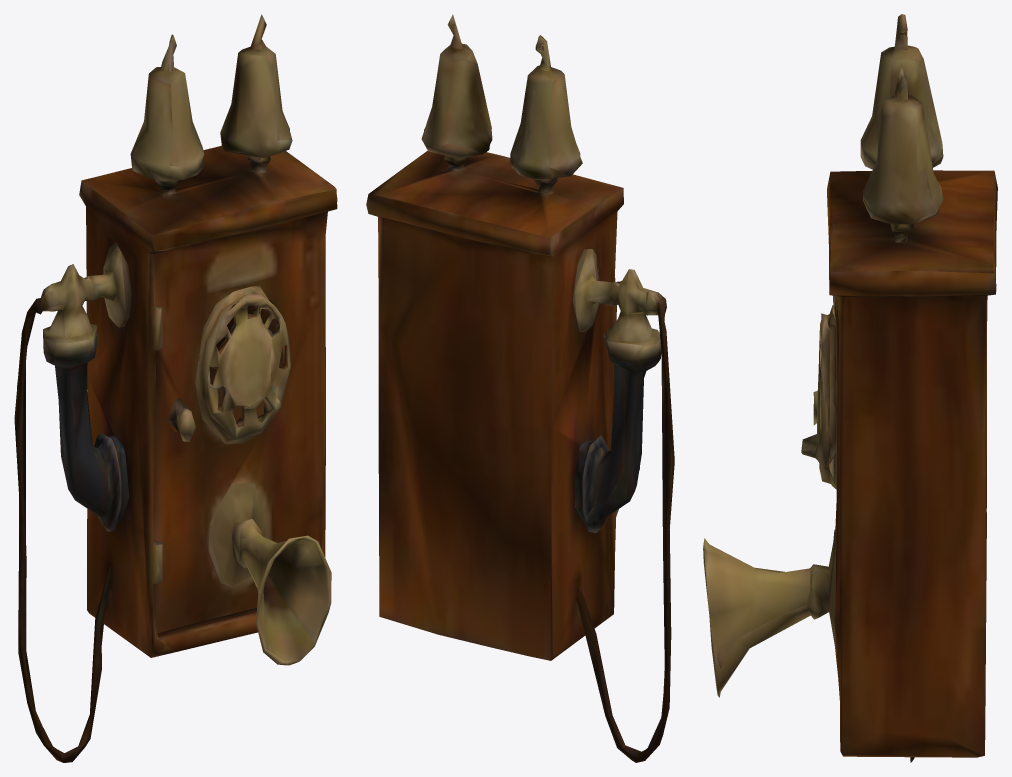
Rendered from telefono.movil.glb.
The picture shows the model from 3 angles, left to right: view 1: azimuth 30°, elevation 25°; view 2: azimuth 150°, elevation 25°; view 3: azimuth 270°, elevation 25°; orthographic projection. The views are drawn at different scales.
Visible parts, largest first — view 1: geometry_0; view 2: geometry_0; view 3: geometry_0.
Boxes of the visible parts, x1,y1,x2,y2 form: geometry_0: (14,14,337,762); geometry_0: (366,14,674,762); geometry_0: (703,14,997,762).
Size of the model in its own units: 0.2492 by 0.6 by 0.1997.
Materials: 1 (1 with a texture image).
